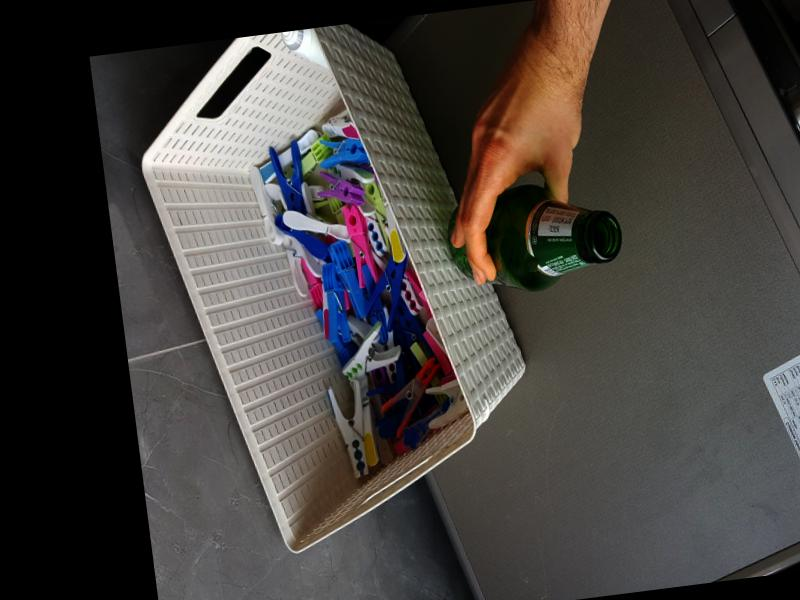Beer: (443, 174, 627, 301)
